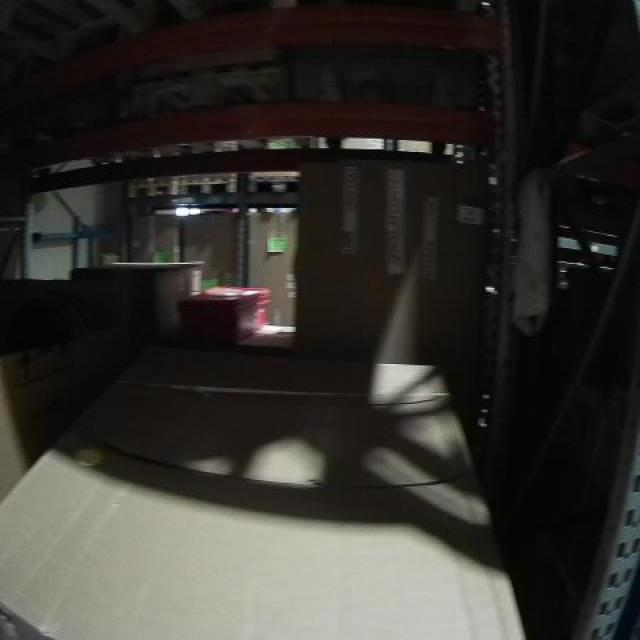pallet: (243, 163, 309, 197), (182, 168, 241, 200), (124, 173, 177, 197)
small_load_carrier: (176, 280, 275, 341)
